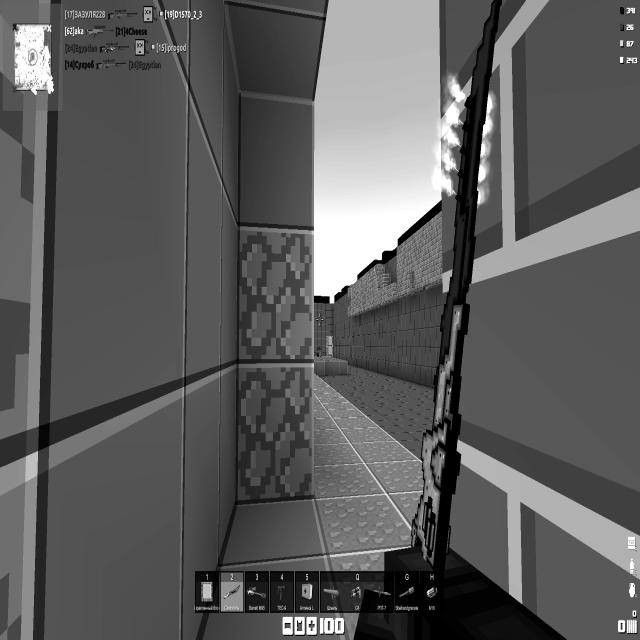Head: (302, 583, 312, 600), (317, 346, 321, 352)
Player: (316, 346, 322, 356)
